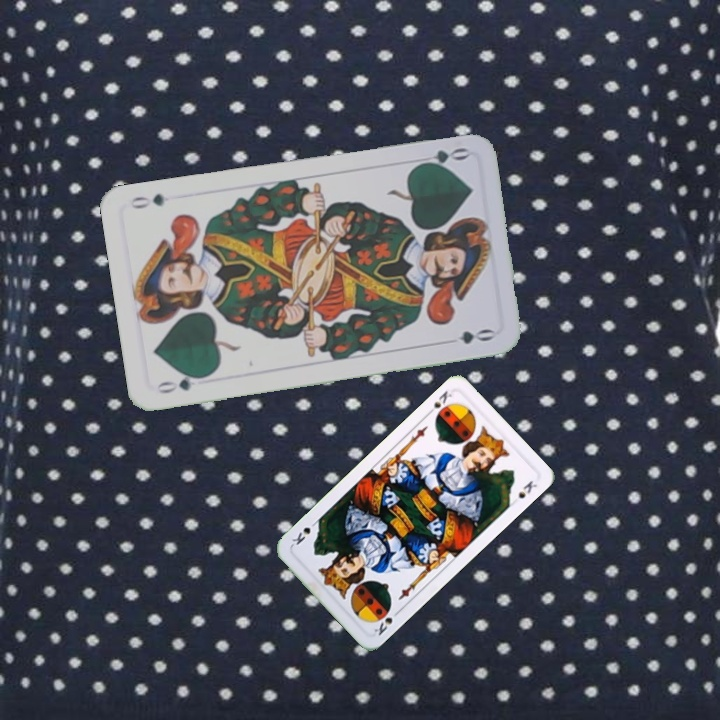GO: (412, 143, 470, 171), (153, 370, 210, 396)
SK: (370, 602, 403, 638), (422, 386, 455, 418)
